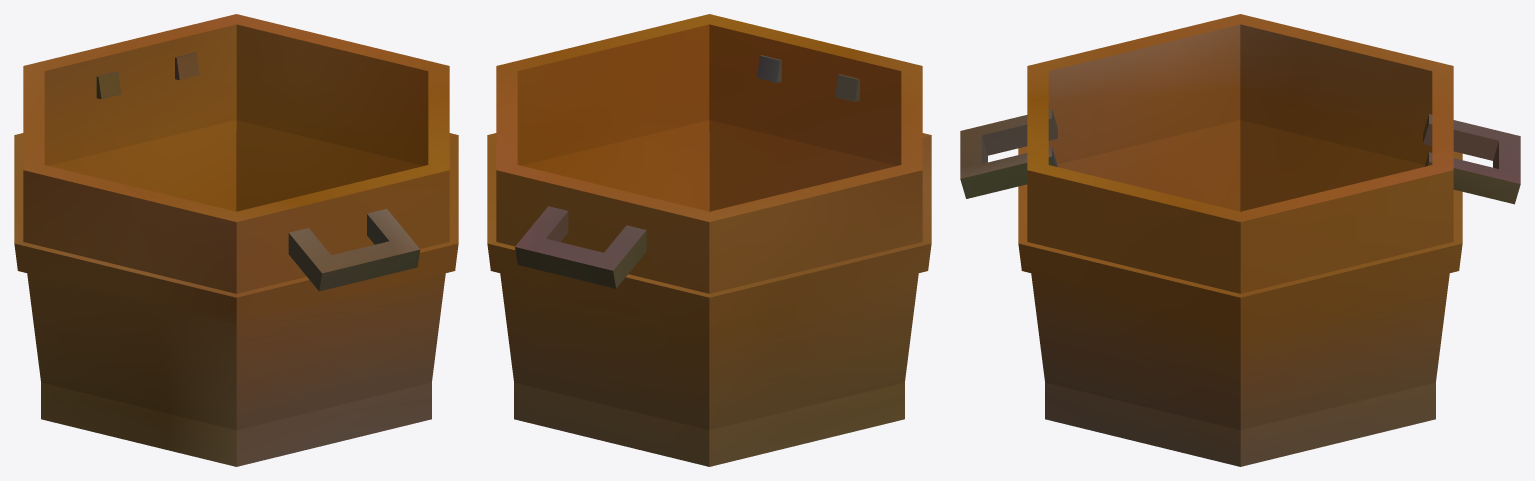
File: mega-pack-cylinder-044.glb
3 views of the same model, side by side, from view 1: azimuth 30°, elevation 25°; view 2: azimuth 150°, elevation 25°; view 3: azimuth 270°, elevation 25° (orthographic).
Visible parts, largest first — view 1: Cylinder.044; view 2: Cylinder.044; view 3: Cylinder.044.
Boxes of the visible parts, box(x1,y1,x2,y2) form: Cylinder.044: box(14, 14, 458, 466); Cylinder.044: box(487, 14, 931, 466); Cylinder.044: box(960, 14, 1520, 466).
Bounding box in the file's own units: 0.4632 × 0.2526 × 0.5062.
1 material, 1 textured.
